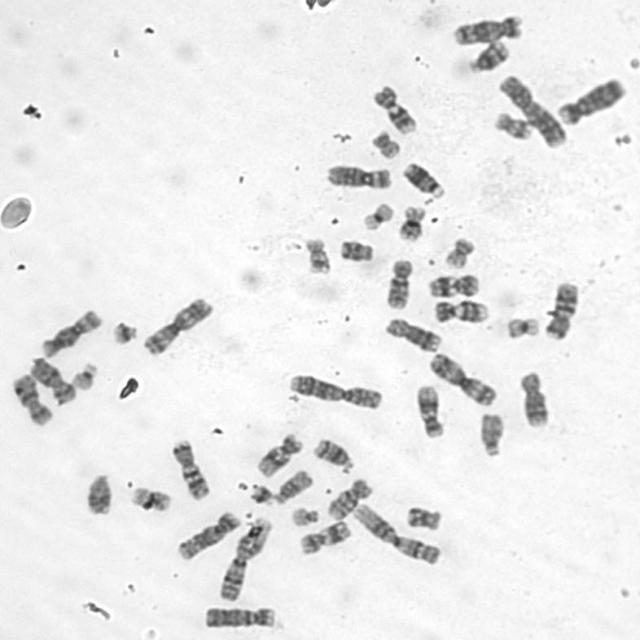A1: (351, 502, 444, 567), (214, 516, 275, 602)
A2: (495, 74, 566, 147), (289, 373, 386, 410)
A3: (426, 353, 499, 405), (144, 295, 209, 353)
B4: (554, 77, 628, 127), (199, 605, 279, 631)
B5: (175, 512, 239, 562), (450, 12, 524, 48)
C10: (325, 478, 371, 522), (382, 256, 415, 312)
C11: (296, 520, 352, 555), (424, 271, 480, 300)
C12: (255, 433, 303, 478), (414, 385, 447, 441)
C6: (36, 309, 104, 358), (321, 163, 395, 191)
C7: (168, 437, 212, 502), (542, 279, 582, 341)
C8: (384, 316, 446, 351), (516, 370, 550, 430)
C9: (373, 86, 418, 134), (430, 298, 492, 326)
D13: (399, 162, 448, 199), (82, 467, 116, 519)
D14: (468, 36, 513, 76), (309, 437, 356, 472)
D15: (270, 468, 315, 506), (477, 411, 505, 460)
E16: (127, 486, 174, 514), (396, 206, 426, 243)
E17: (492, 112, 536, 142), (303, 235, 330, 278)
E18: (403, 504, 444, 532), (336, 238, 376, 264)
F19: (360, 202, 395, 232), (503, 316, 543, 339)
F20: (441, 234, 477, 270), (367, 128, 403, 159)
G21: (108, 320, 142, 346), (248, 484, 281, 506)
G22: (71, 361, 99, 393), (290, 506, 322, 528)
X: (26, 356, 78, 408), (11, 372, 53, 428)
